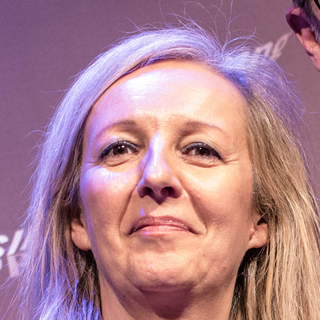eye: (176, 140, 223, 164), (99, 138, 142, 163)
